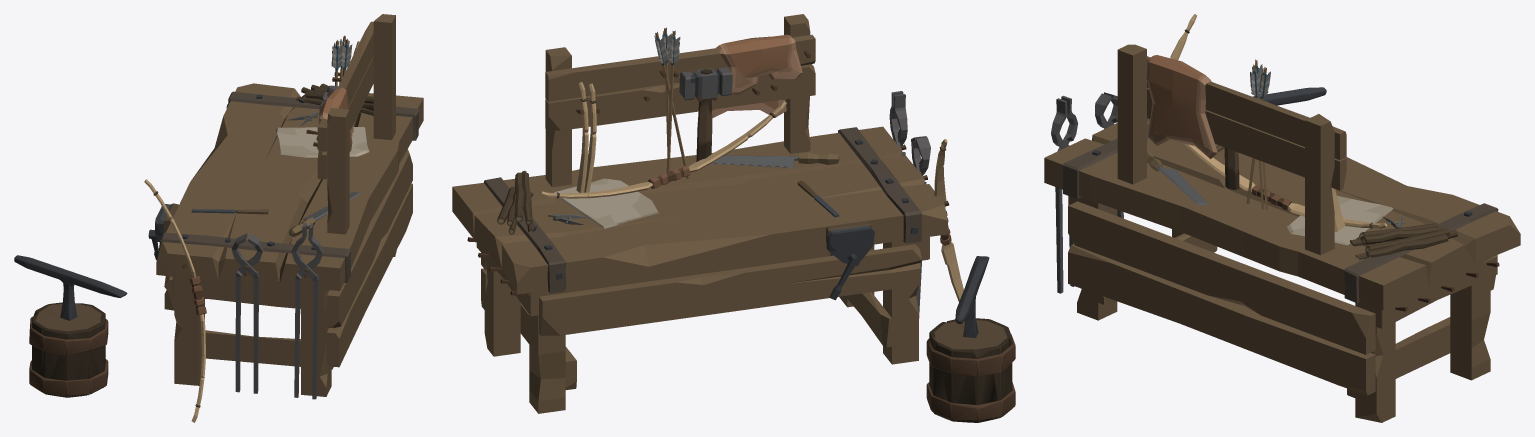
The model's file is craftbench.fbx.
3 views of the same model, side by side, from view 1: azimuth 30°, elevation 25°; view 2: azimuth 150°, elevation 25°; view 3: azimuth 270°, elevation 25° (orthographic). The views are drawn at different scales.
Visible parts, largest first — view 1: craftbench; view 2: craftbench; view 3: craftbench.
Boxes of the visible parts, x1,y1,x2,y2 form: craftbench: [14, 14, 423, 422]; craftbench: [452, 14, 1015, 422]; craftbench: [1044, 14, 1520, 422].
Size of the model in its own units: 298 by 180 by 249.
Materials: 5 (5 with a texture image).
